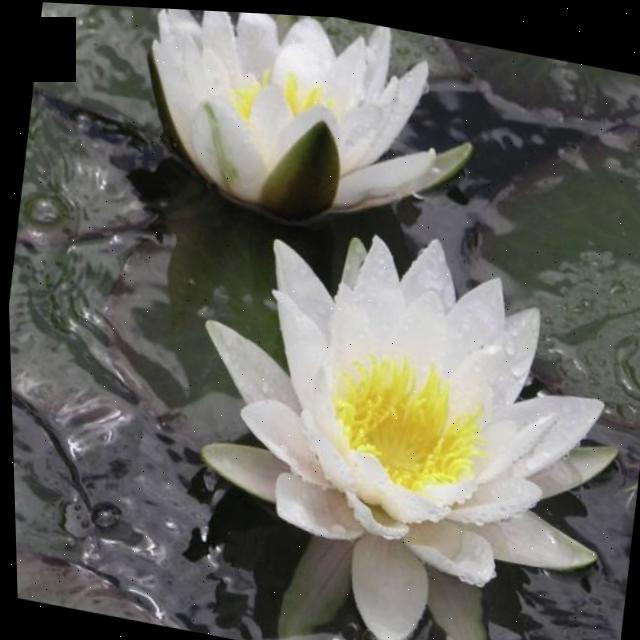water-lily: (149, 192, 640, 627), (72, 3, 492, 271)
